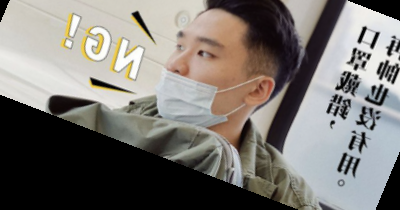mask_weared_incorrect: (154, 1, 306, 134)
